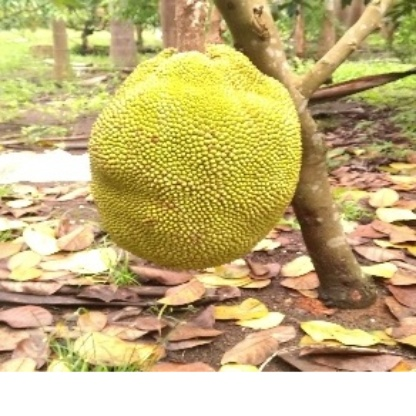mit: (85, 32, 305, 274)
